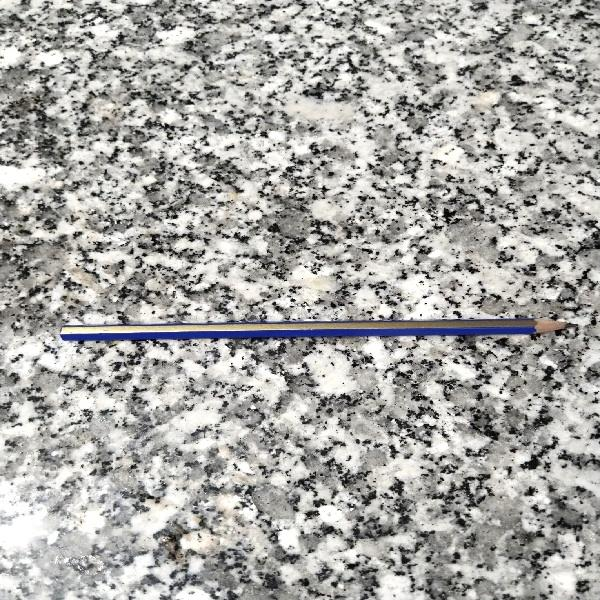pencil: (51, 316, 585, 343)
